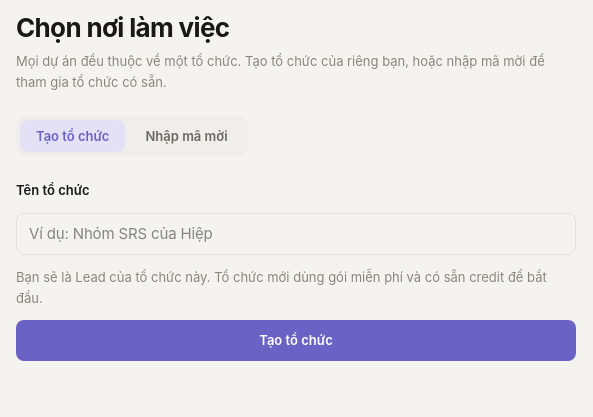
onboarding tổ chức (BPMN Flow 8) › mã hỏng thì hiện lỗi của BE và không vào app
Click the tab "Nhập mã mời".
click(187, 136)  # box [130, 120, 244, 152]
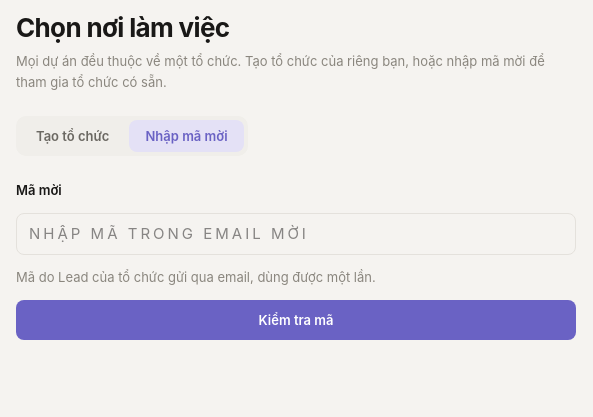
Type "SAI" into the field labelled "Mã mời".
click(296, 234); type("SAI")  # box [16, 213, 576, 255]
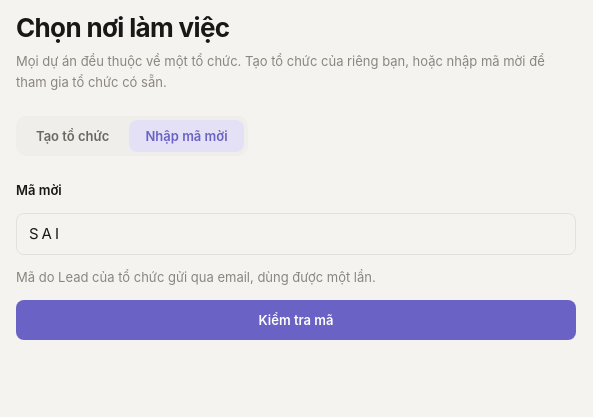
Click the button "Kiểm tra mã".
click(296, 320)  # box [16, 300, 576, 340]
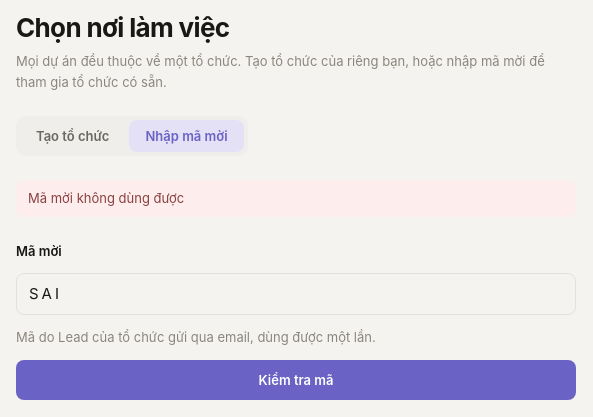
expect the message reads "Mã mời không dùng được": met, box [28, 190, 184, 206]
